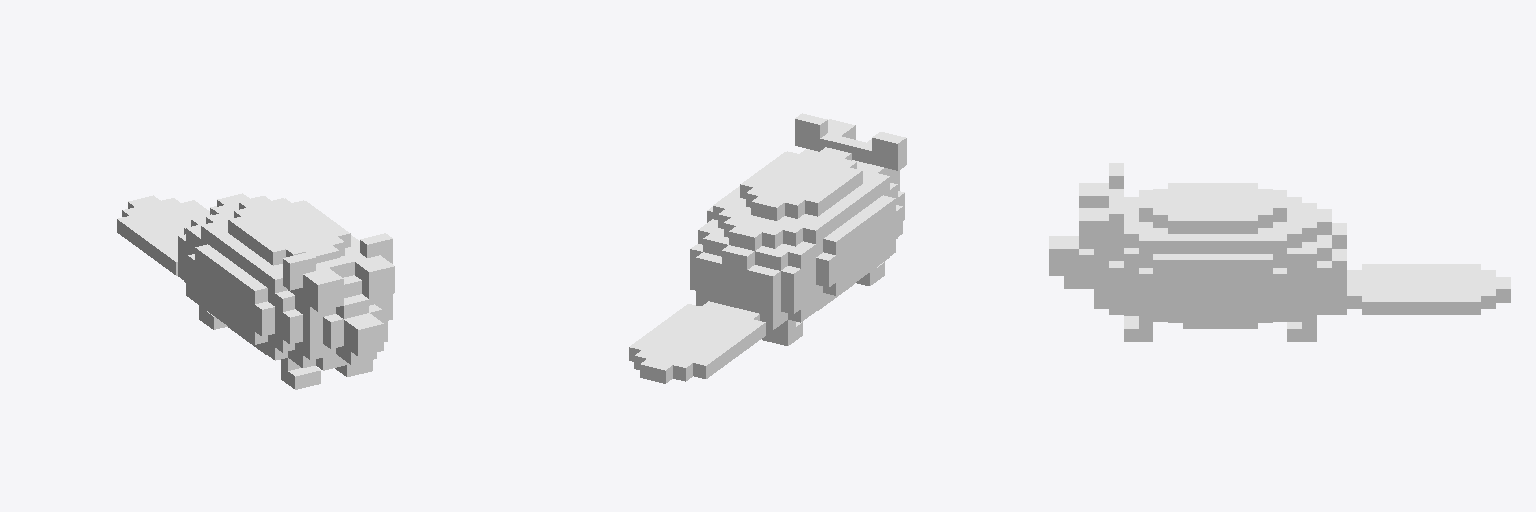
Rendered from beaver.vox.obj.
The picture shows the model from 3 angles: view 1: azimuth 30°, elevation 25°; view 2: azimuth 150°, elevation 25°; view 3: azimuth 270°, elevation 25°; orthographic projection.
Parts seen in each view (by area): view 1: object 1; view 2: object 1; view 3: object 1.
Part boxes in pixels (x1,y1,x2,y2): object 1: (117, 193, 394, 389); object 1: (629, 113, 906, 383); object 1: (1049, 163, 1510, 341).
Bounding box in the file's own units: 1 × 1 × 3.1.